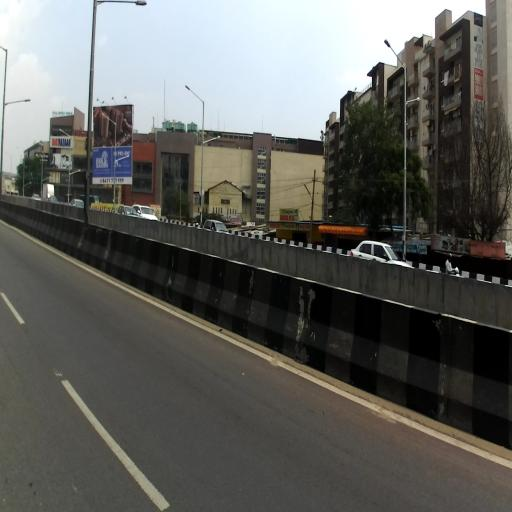street_light_0: (382, 37, 408, 75), (185, 84, 206, 105), (91, 0, 150, 6), (2, 98, 32, 109), (201, 134, 222, 145), (102, 114, 117, 128), (405, 94, 421, 105), (60, 128, 73, 141), (112, 155, 128, 164), (40, 175, 53, 184), (15, 146, 24, 158), (34, 137, 43, 148), (4, 148, 13, 158), (22, 182, 33, 190), (69, 170, 81, 176)
